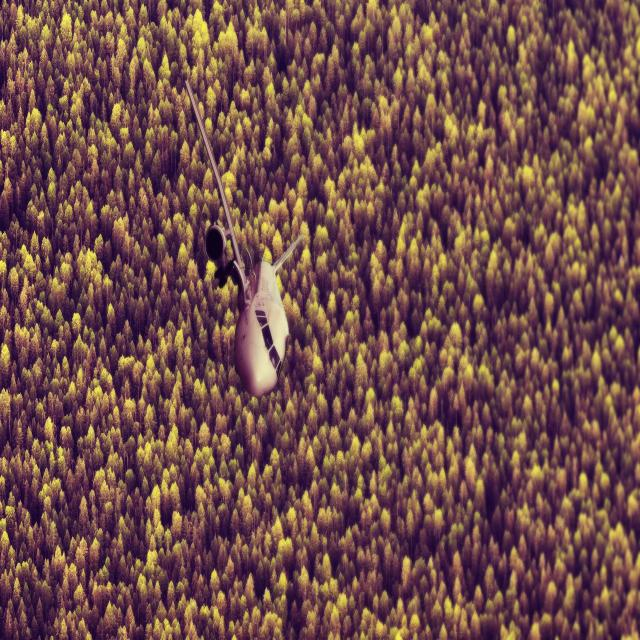airplane: (183, 77, 305, 399)
